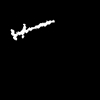double_crochet: (11, 20, 53, 39)
